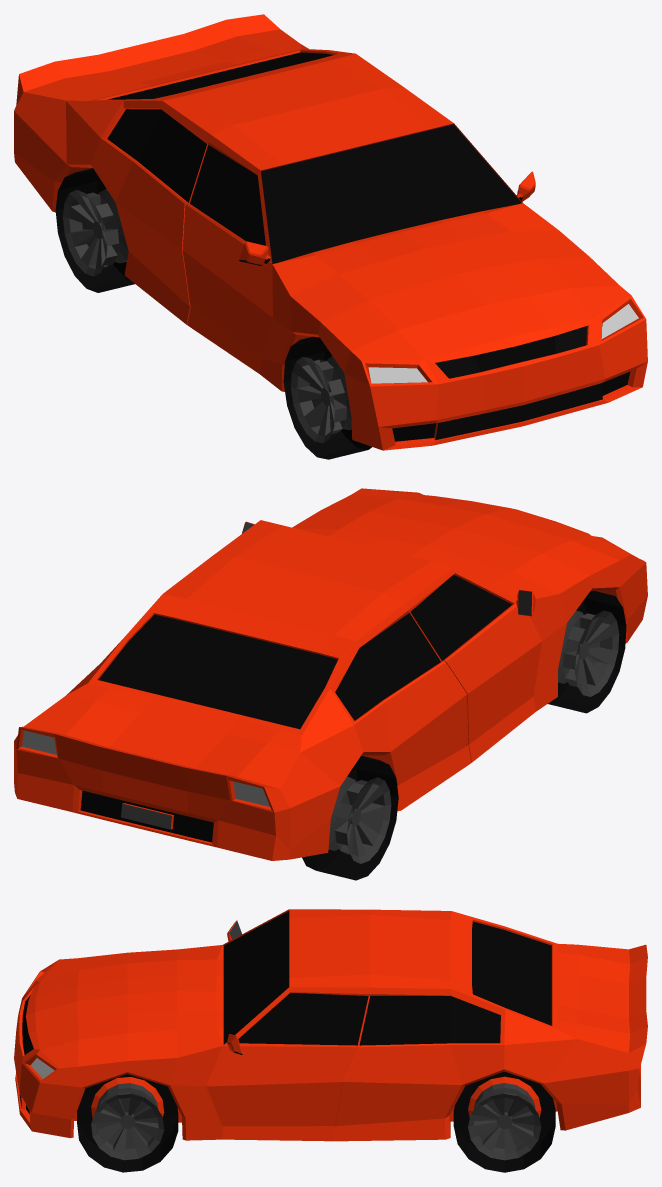
File: car_1_orange.obj
The picture shows the model from 3 angles, top to bottom: view 1: azimuth 30°, elevation 25°; view 2: azimuth 150°, elevation 25°; view 3: azimuth 270°, elevation 25°; orthographic projection. The views are drawn at different scales.
Visible parts, largest first — view 1: Cube; view 2: Cube; view 3: Cube.
Part boxes in pixels (left/top/right/bottom): Cube: left=14, top=14, right=647, bottom=459; Cube: left=14, top=488, right=647, bottom=880; Cube: left=14, top=909, right=647, bottom=1172.
Size of the model in its own units: 1.63 by 1.1 by 3.68.
